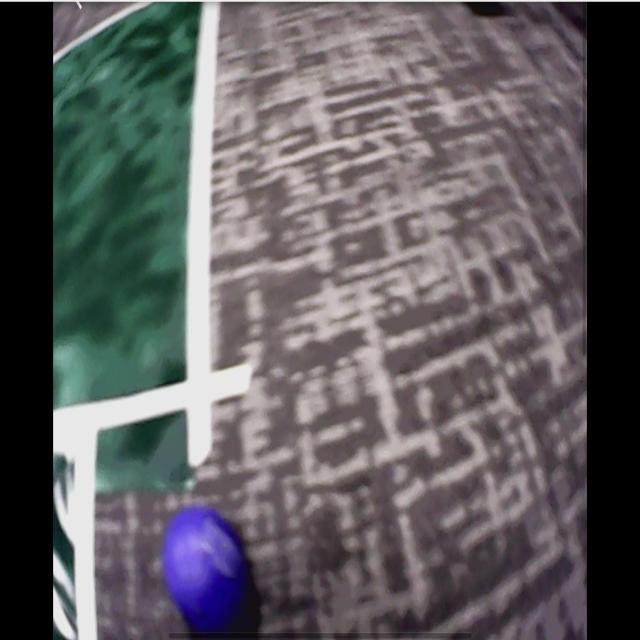ball: (165, 511, 246, 640)
